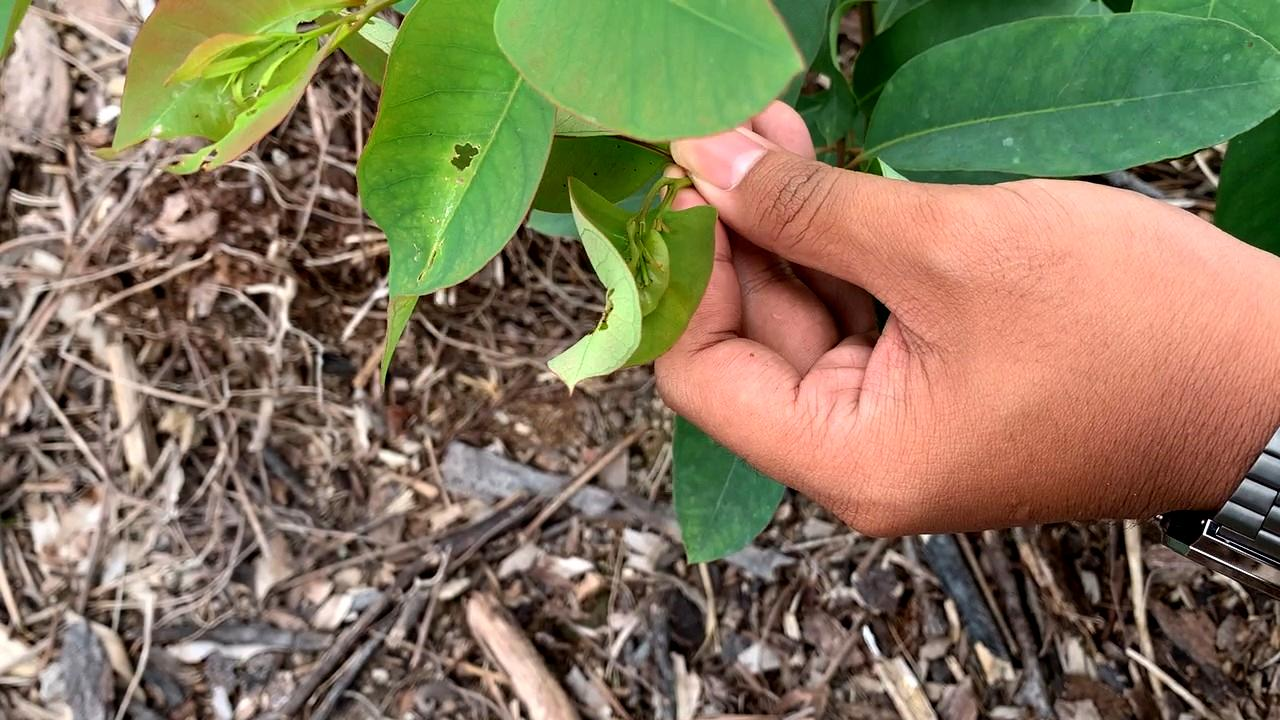Leaf Roller - Leaf: (600, 205, 685, 340)
